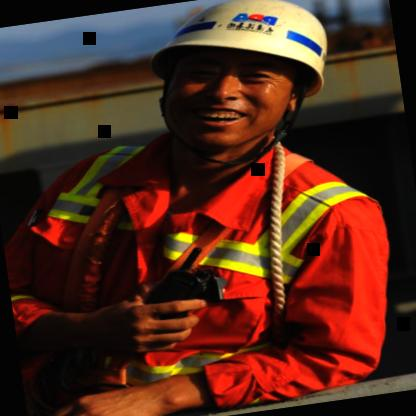helmet: (121, 0, 368, 171)
